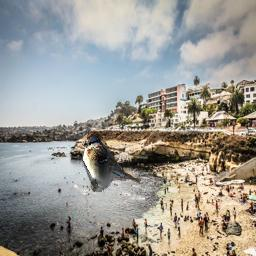Sparrow: (83, 132, 142, 192)
